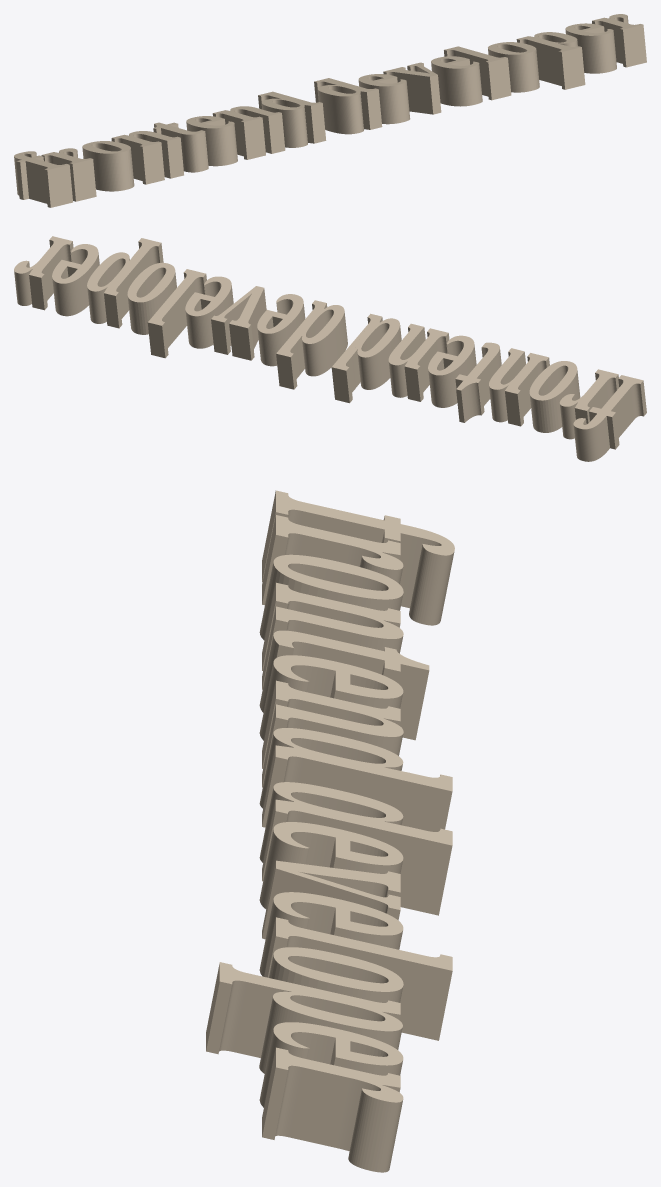
The model's file is frontenddev.glb.
3 renders of one model, top to bottom at view 1: azimuth 30°, elevation 25°; view 2: azimuth 150°, elevation 25°; view 3: azimuth 270°, elevation 25°, orthographic. The views are drawn at different scales.
Visible parts, largest first — view 1: Mesh_Mesh_head_geo.001_lambert2SG.001; view 2: Mesh_Mesh_head_geo.001_lambert2SG.001; view 3: Mesh_Mesh_head_geo.001_lambert2SG.001.
Boxes of the visible parts, x1,y1,x2,y2 form: Mesh_Mesh_head_geo.001_lambert2SG.001: [14, 14, 646, 207]; Mesh_Mesh_head_geo.001_lambert2SG.001: [14, 236, 646, 461]; Mesh_Mesh_head_geo.001_lambert2SG.001: [206, 490, 454, 1172].
Bounding box in the file's own units: 183 × 17.88 × 32.83.
